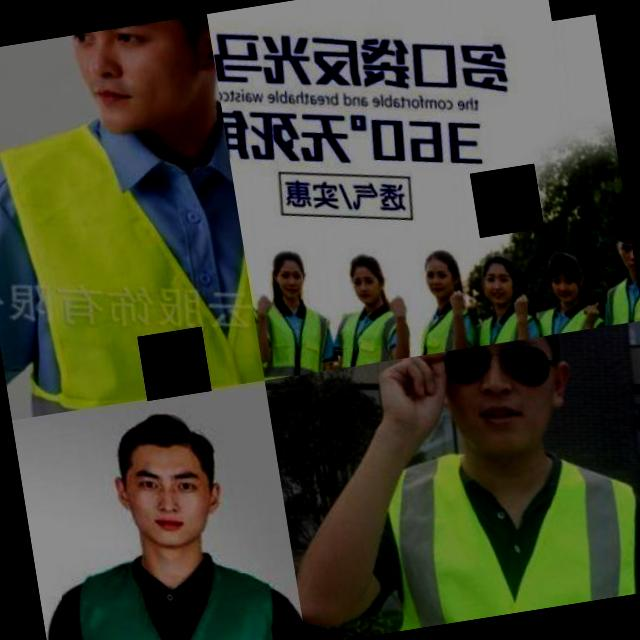vest: (0, 81, 264, 420), (327, 425, 640, 638), (35, 530, 296, 640), (253, 294, 329, 381), (327, 304, 411, 369), (402, 298, 471, 358), (462, 302, 536, 348), (528, 296, 606, 338), (597, 274, 640, 326)
